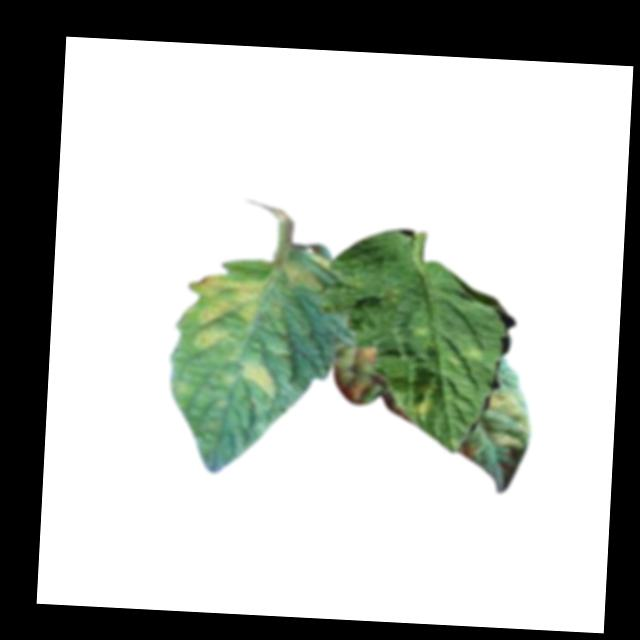Leaf_Mold: (183, 267, 275, 355), (331, 342, 387, 406), (480, 388, 533, 450), (239, 357, 283, 402), (281, 260, 332, 298), (404, 376, 442, 422)
